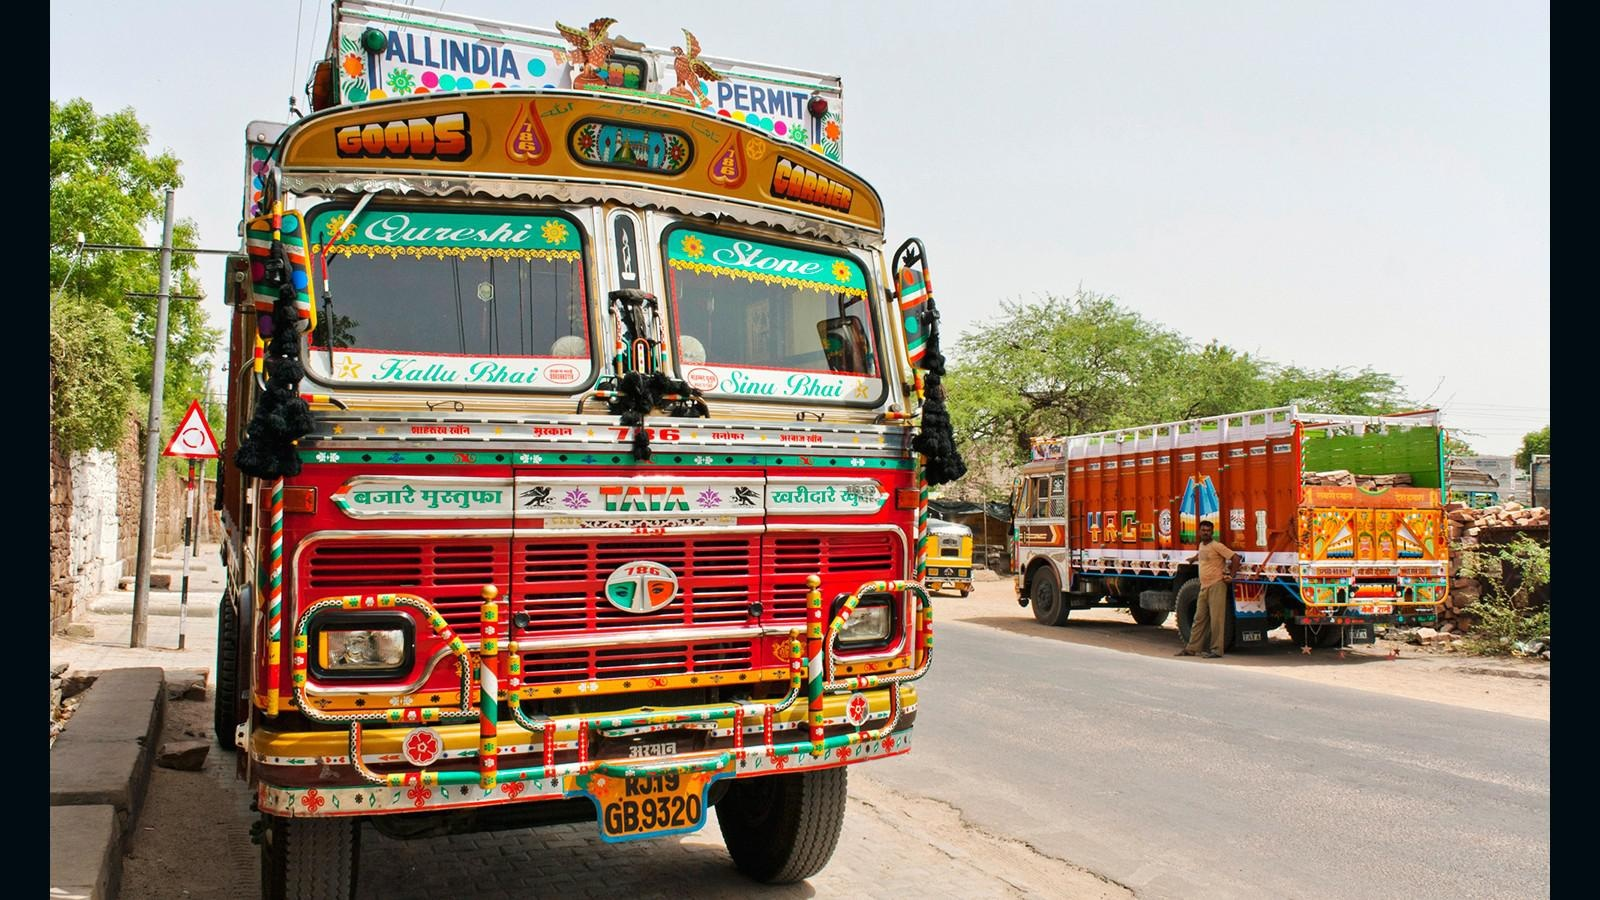number_plate: (587, 760, 711, 832)
